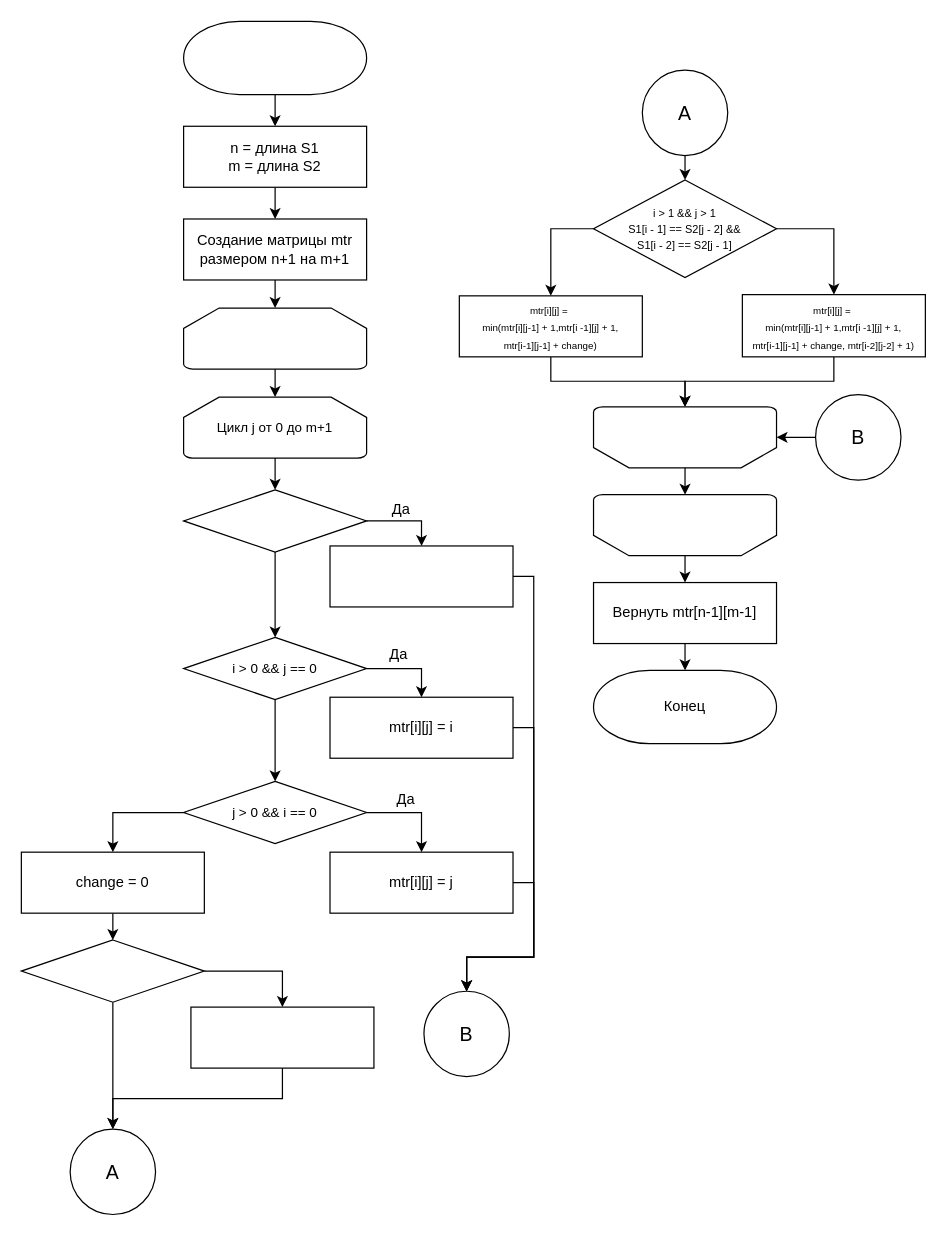
The diagram is 947 pixels wide and 1236 high, and some of its shapes have lost their labels. Each missing label, with the centre of its shape:
"change = 1" goes at pixel 282 1037.
"i == 0 && j == 0" goes at pixel 274 520.
"i++" goes at pixel 684 524.
"j++" goes at pixel 684 437.
"mtr[i][j] = 0" goes at pixel 421 576.
"S1[i] != S2[j]" goes at pixel 112 970.
"Начало" goes at pixel 274 57.
"Цикл i от 0 до n+1" goes at pixel 274 338.
